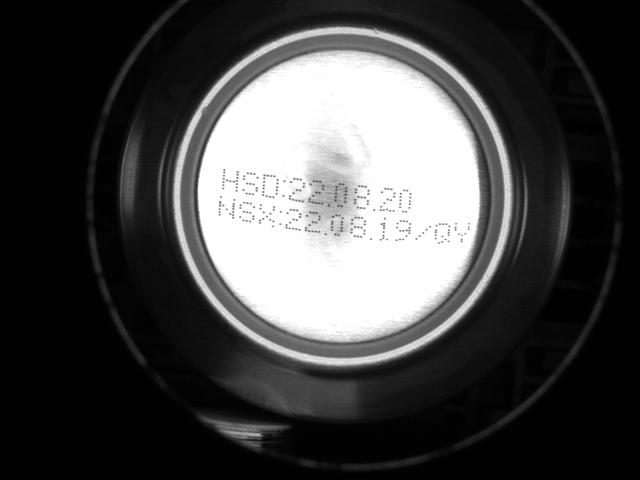.: (325, 192, 333, 208), (369, 199, 378, 213), (367, 230, 374, 242), (323, 223, 328, 236)
/: (413, 222, 433, 245)
0: (332, 179, 349, 210), (397, 187, 414, 214), (329, 212, 346, 238)
1: (378, 215, 390, 242)
2: (306, 176, 327, 205), (378, 185, 398, 215), (282, 205, 303, 232), (287, 174, 306, 203), (302, 209, 322, 235)
8: (352, 183, 372, 212), (349, 214, 367, 240)
9: (394, 217, 411, 244)
:: (280, 178, 288, 199), (277, 209, 284, 227)
D: (261, 172, 279, 200)
H: (220, 167, 239, 193)
N: (217, 193, 237, 221)
Q: (433, 220, 452, 248)
S: (241, 169, 261, 197), (237, 200, 257, 226)
X: (256, 201, 277, 229)
Y: (453, 220, 473, 248)
